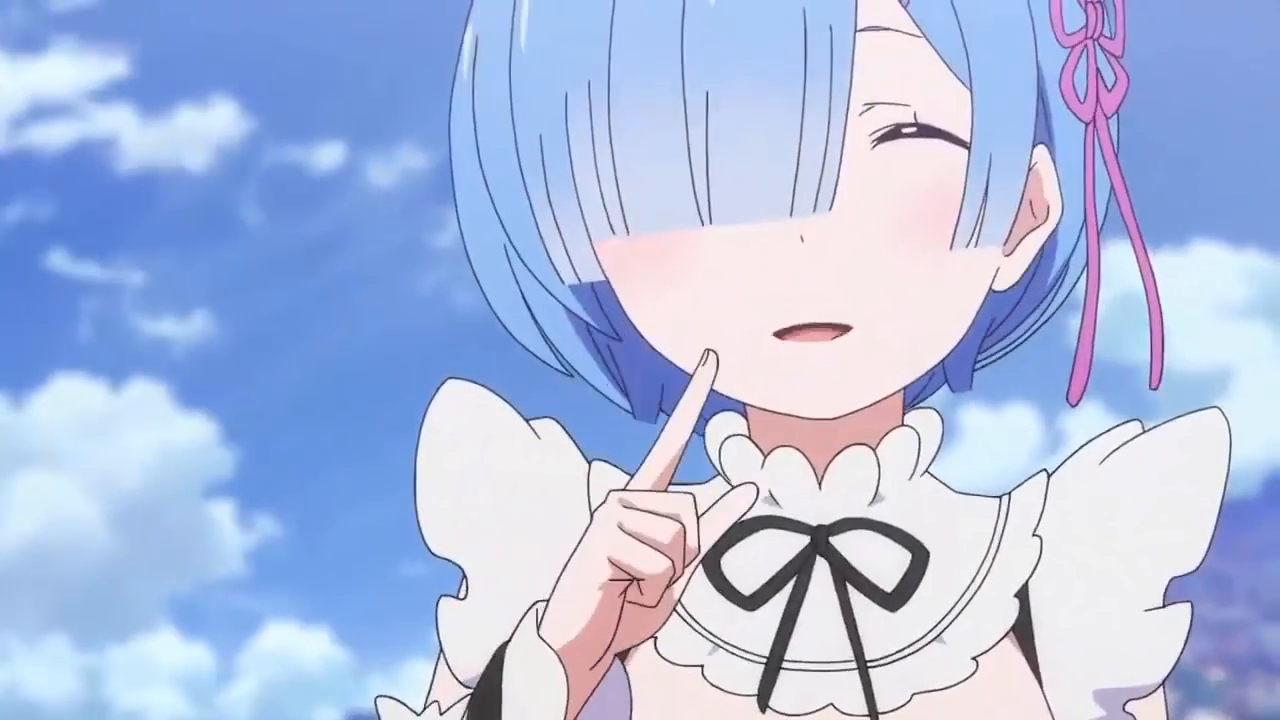REM: (437, 1, 1133, 433)
